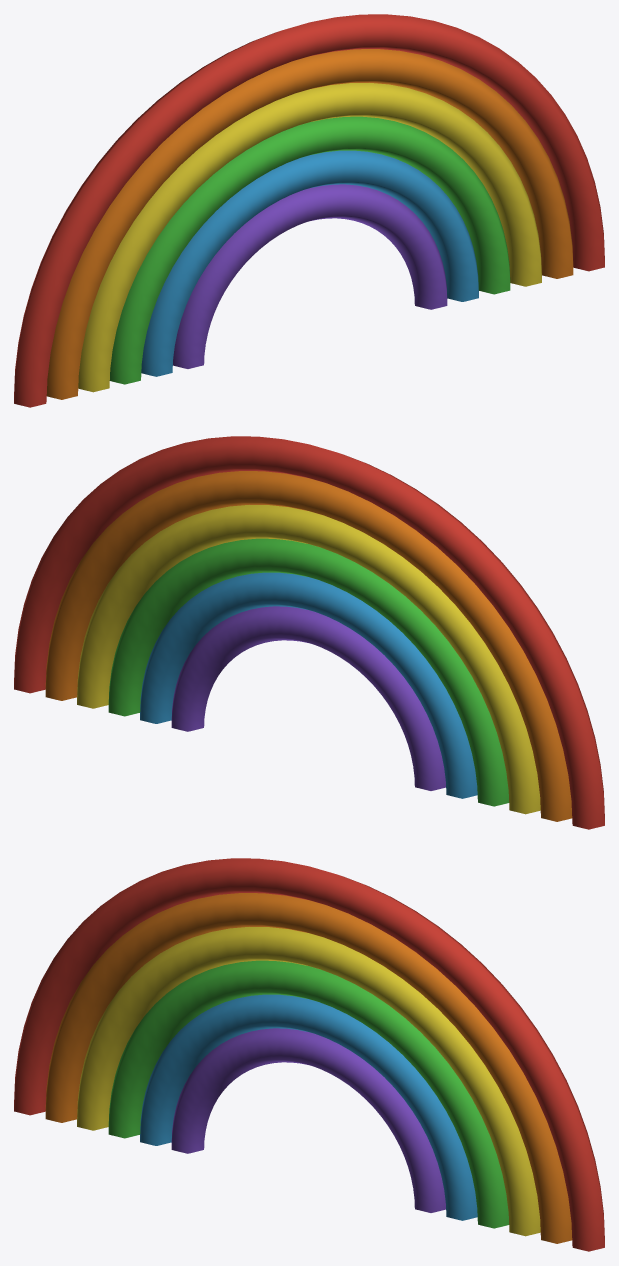
File: fc_rainbow.glb
3 views of the same model, one above another, from view 1: azimuth 30°, elevation 25°; view 2: azimuth 150°, elevation 25°; view 3: azimuth 330°, elevation 25° (orthographic).
Parts seen in each view (by area): view 1: fc_rainbow; view 2: fc_rainbow; view 3: fc_rainbow.
Boxes of the visible parts, x1,y1,x2,y2 form: fc_rainbow: (14, 14, 604, 407); fc_rainbow: (14, 436, 604, 829); fc_rainbow: (14, 858, 604, 1251).
Size of the model in its own units: 1.31 by 0.656 by 0.0624.
